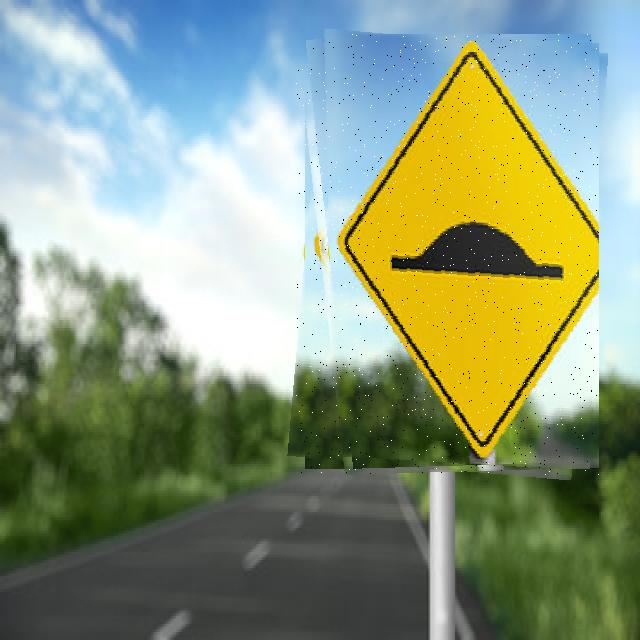hump: (296, 34, 599, 475)
